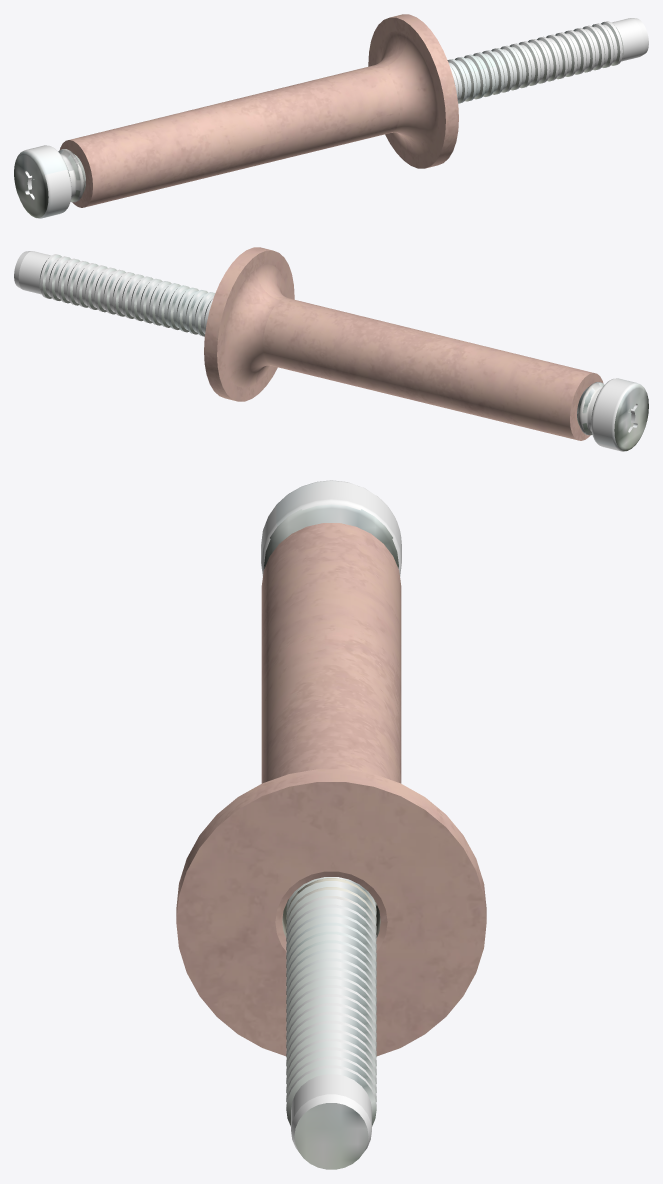
File: floortight_model-transformed.glb
3 renders of one model, top to bottom at view 1: azimuth 30°, elevation 25°; view 2: azimuth 150°, elevation 25°; view 3: azimuth 270°, elevation 25°, orthographic. The views are drawn at different scales.
Parts seen in each view (by area): view 1: 1; view 2: 1; view 3: 1.
Boxes of the visible parts, x1,y1,x2,y2 form: 1: (14, 14, 648, 218); 1: (14, 247, 648, 451); 1: (176, 480, 486, 1169).
Size of the model in its own units: 0.0794 by 0.0174 by 0.0175.
Materials: 2 (2 with a texture image).
